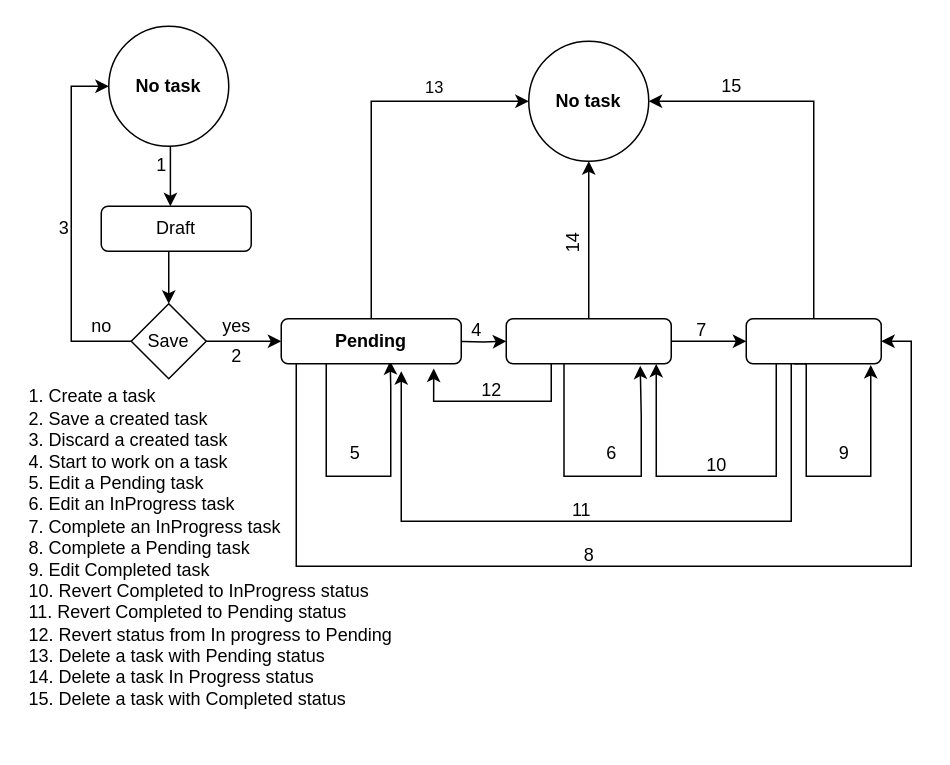
Some shapes in this 950 by 765 pixel diagram are drawn without their labels. The shapes that lost their labels are listed below. From the top down, each one's centre as x and y in pixels, then its label:
At [588,340]: "In progress".
At [813,340]: "Complete".
